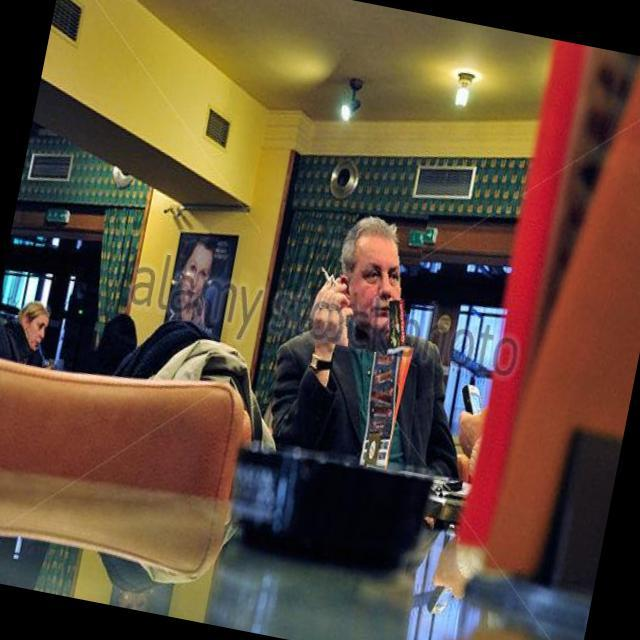cigarette: (310, 253, 340, 298)
